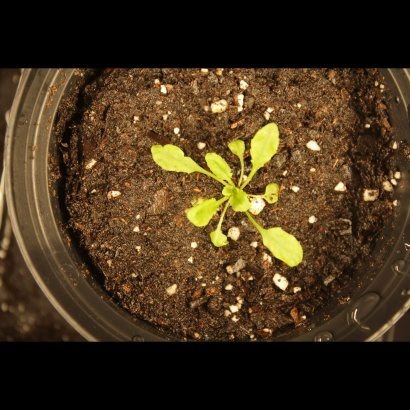leaf: (254, 220, 308, 270), (249, 116, 283, 175), (148, 140, 202, 177), (182, 196, 219, 228), (205, 150, 235, 186), (222, 184, 254, 215), (203, 226, 232, 253), (260, 180, 288, 207), (222, 137, 252, 162)
